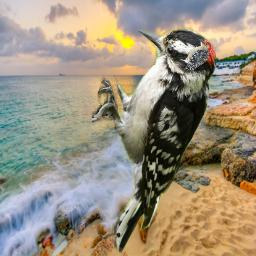Woodpecker: (92, 24, 216, 253), (178, 39, 211, 72)
